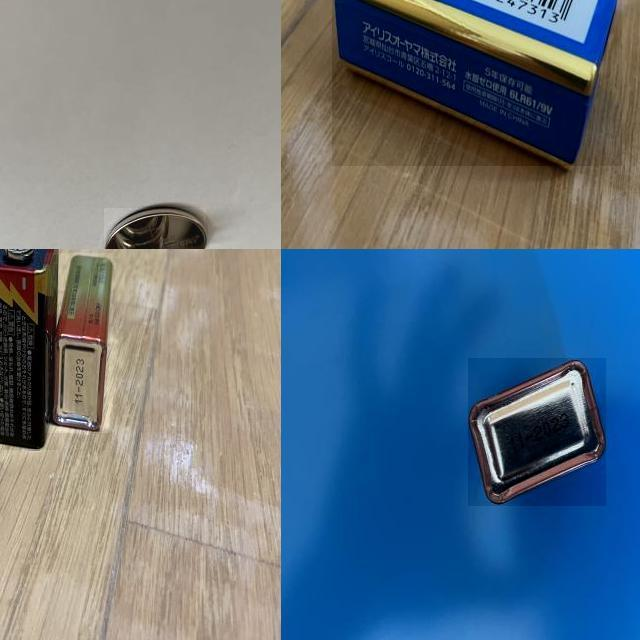9V: (332, 0, 622, 166), (468, 358, 606, 506), (46, 253, 114, 433), (0, 249, 59, 450)
